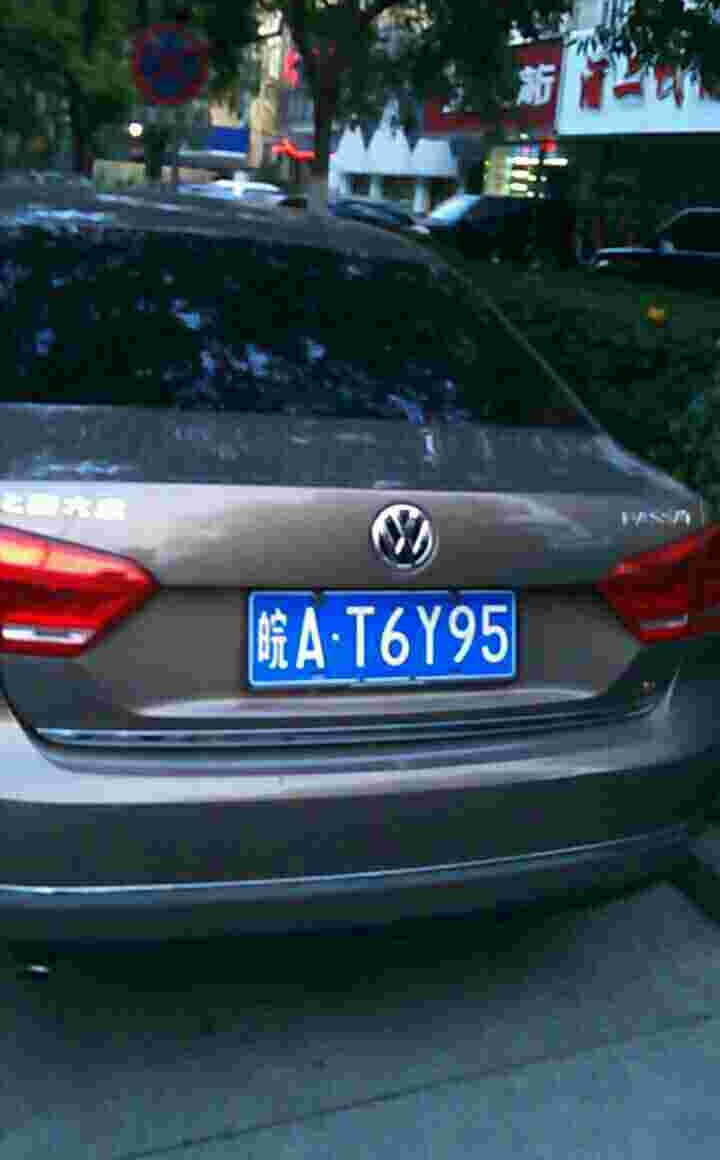license_plate: (251, 587, 525, 690)
